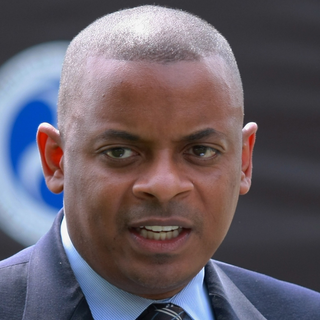eye: (179, 139, 226, 164), (94, 140, 142, 164)
